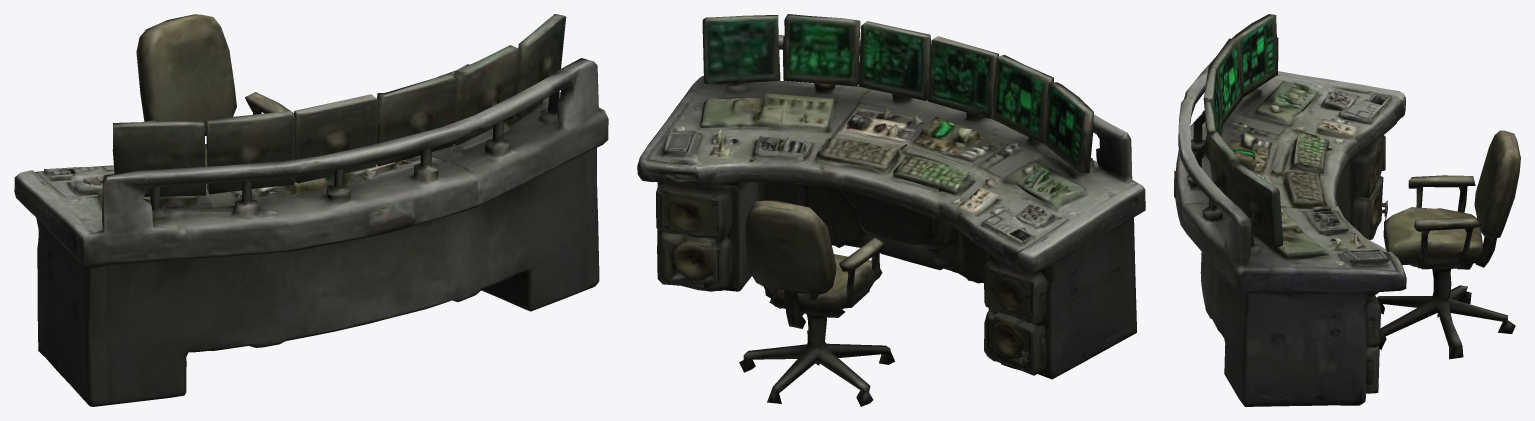
Rendered from xd_console.glb.
The picture shows the model from 3 angles, left to right: view 1: azimuth 30°, elevation 25°; view 2: azimuth 150°, elevation 25°; view 3: azimuth 270°, elevation 25°; orthographic projection. The views are drawn at different scales.
Parts seen in each view (by area): view 1: tripo_node_4ef04c39-6fe5-45ba-9f6d-4dcb29c24254; view 2: tripo_node_4ef04c39-6fe5-45ba-9f6d-4dcb29c24254; view 3: tripo_node_4ef04c39-6fe5-45ba-9f6d-4dcb29c24254.
Boxes of the visible parts, x1=… form: tripo_node_4ef04c39-6fe5-45ba-9f6d-4dcb29c24254: x1=14, y1=14, x2=608, y2=406; tripo_node_4ef04c39-6fe5-45ba-9f6d-4dcb29c24254: x1=637, y1=14, x2=1145, y2=406; tripo_node_4ef04c39-6fe5-45ba-9f6d-4dcb29c24254: x1=1174, y1=14, x2=1520, y2=406.
Bounding box in the file's own units: 0.98 × 0.528 × 0.7003.
Materials: 1 (1 with a texture image).
